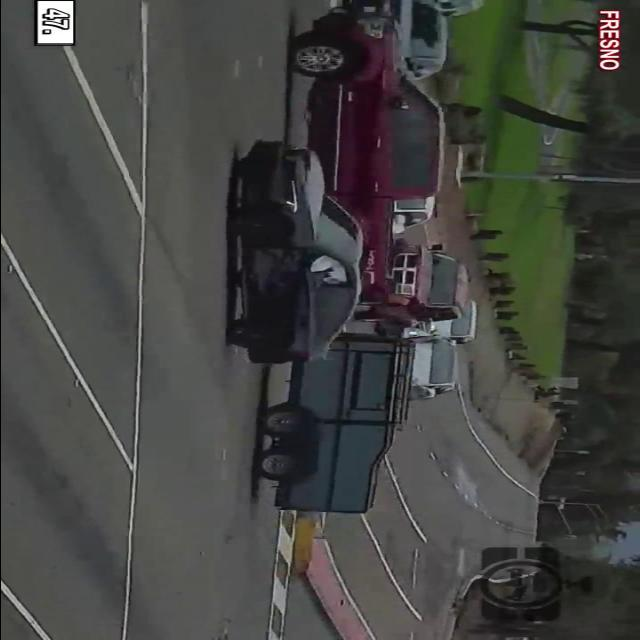accident: (200, 136, 385, 372)
